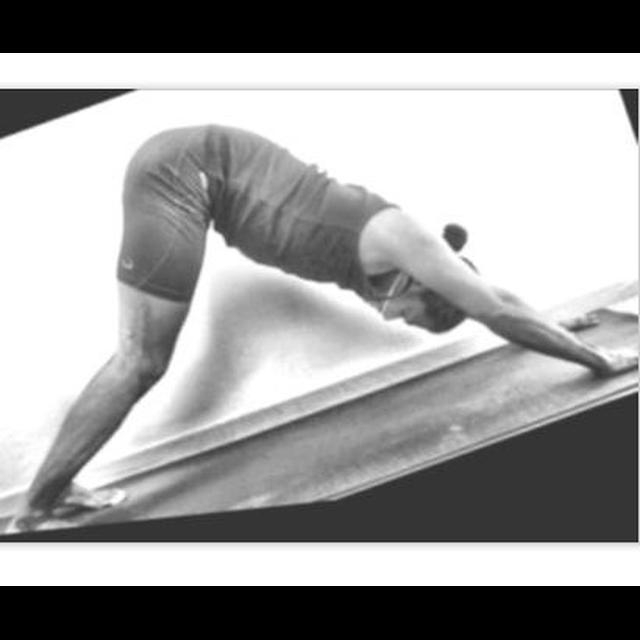Downward-Facing_Dog: (4, 121, 640, 532)
